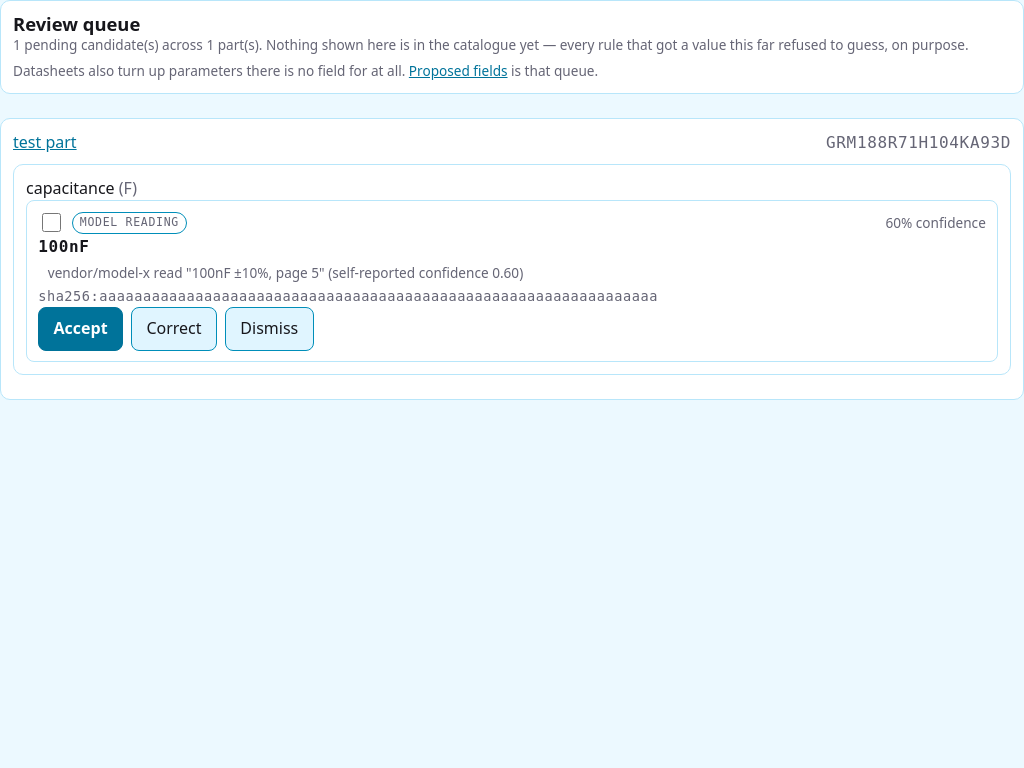
correcting a value › disables Save correction and says why when the value is cleared, rather than silently doing nothing
Click the button "Correct" at (174, 329), box [131,307,217,351]
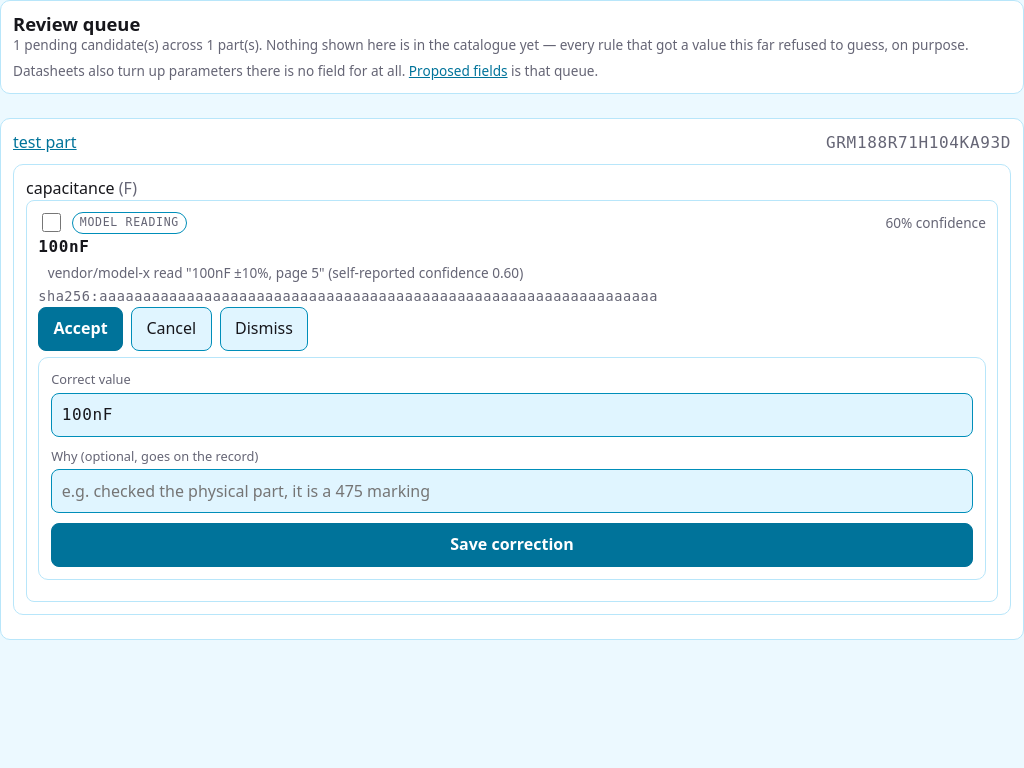
Clear the field showing "100nF" at (512, 415), box [51,393,973,437]
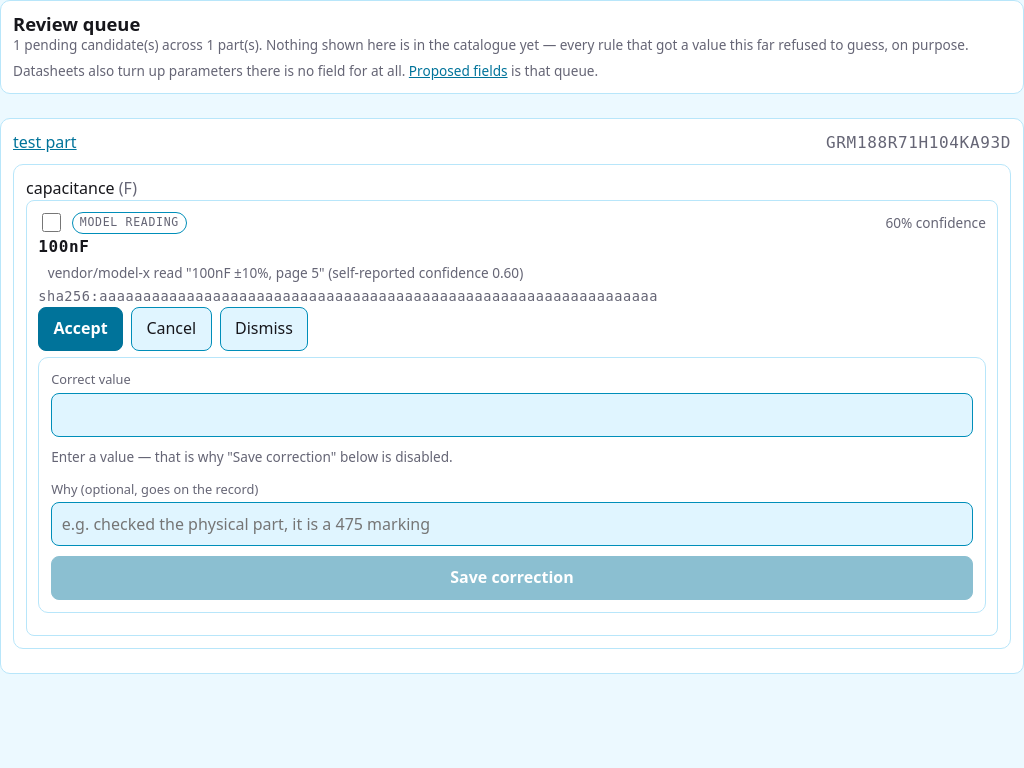
Expected: the button "Save correction" is disabled, [51,556,973,600]
Expected: the text "Enter a value" is shown, [51,446,453,466]
